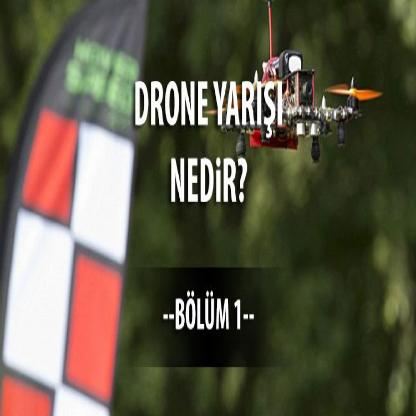drone: (193, 67, 388, 155)
